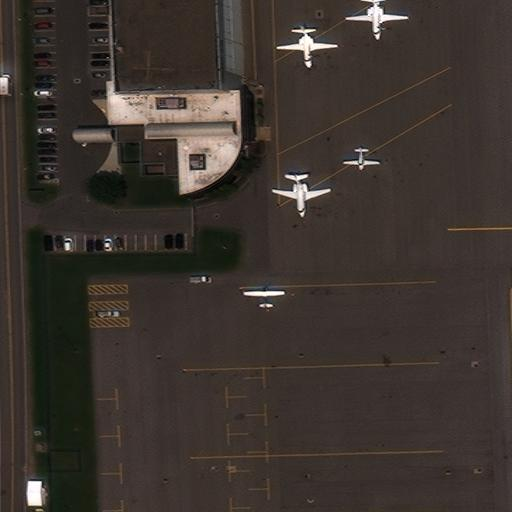Medium Civil Transport: (344, 0, 408, 40), (277, 24, 336, 67), (272, 174, 330, 217)
Small Civil Transport: (243, 287, 283, 310), (342, 146, 380, 169)
